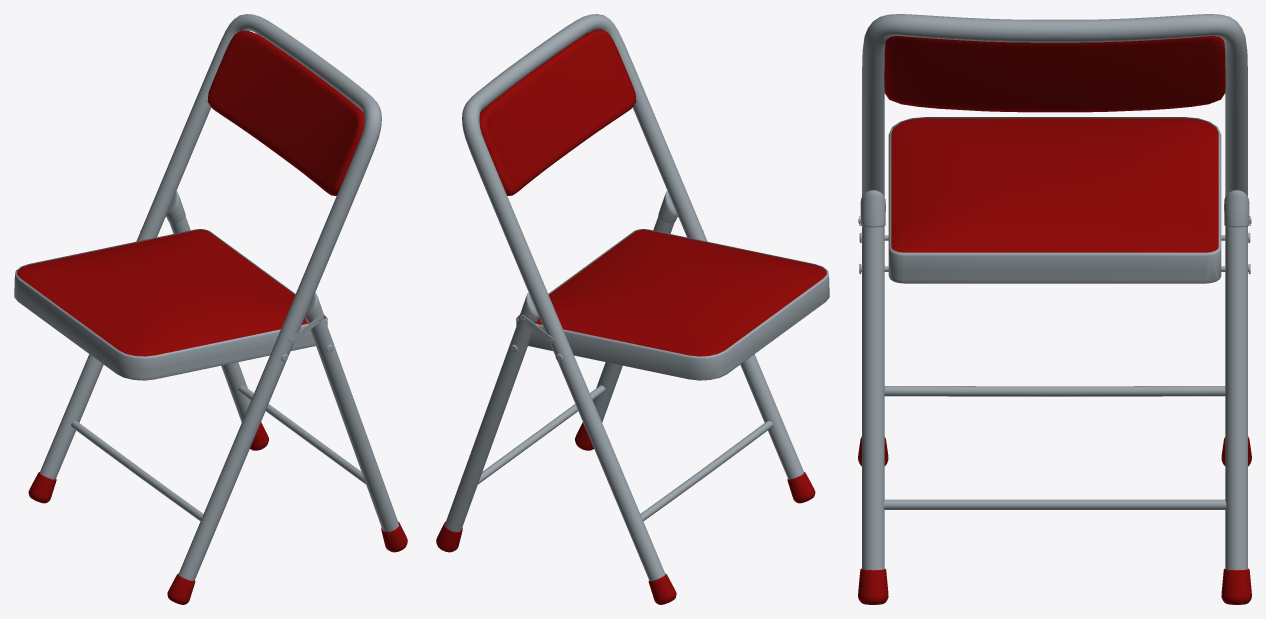
3 views of the same model, side by side, from view 1: azimuth 30°, elevation 25°; view 2: azimuth 150°, elevation 25°; view 3: azimuth 270°, elevation 25° (orthographic). The views are drawn at different scales.
Visible parts, largest first — view 1: Legs.001, chair, Legs; view 2: Legs.001, chair, Legs; view 3: chair, Legs.001, Legs.
Part boxes in pixels (bbox=[...]): Legs.001: bbox=[28, 14, 381, 604]; chair: bbox=[14, 229, 327, 380]; Legs: bbox=[166, 191, 407, 552]; Legs.001: bbox=[462, 14, 815, 604]; chair: bbox=[516, 229, 829, 380]; Legs: bbox=[436, 191, 677, 552]; chair: bbox=[888, 117, 1221, 283]; Legs.001: bbox=[858, 14, 1251, 466]; Legs: bbox=[858, 190, 1251, 604].
Bounding box in the file's own units: 0.4883 × 0.7713 × 0.472.
